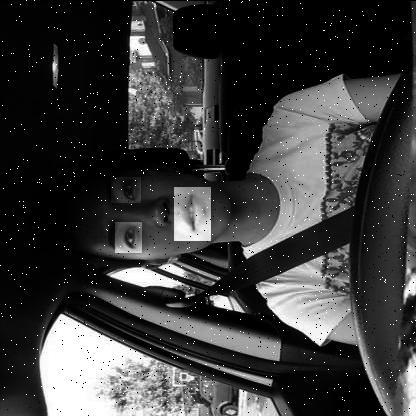seatbelt: (29, 146, 356, 292)
